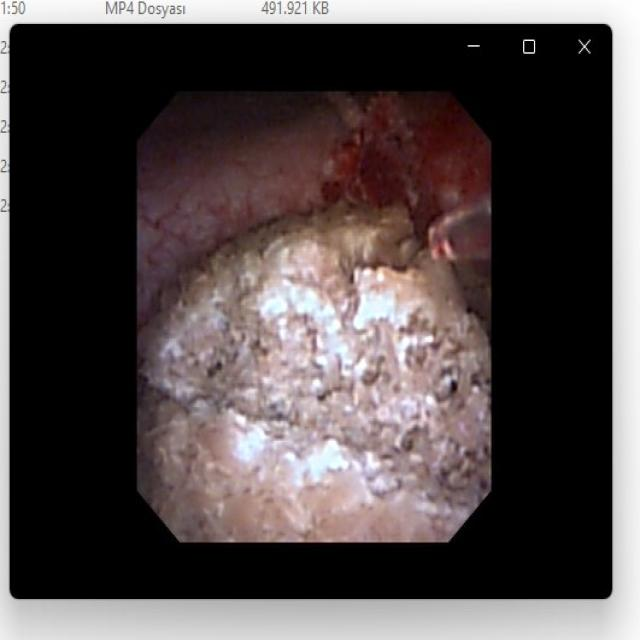stone: (143, 223, 484, 534)
